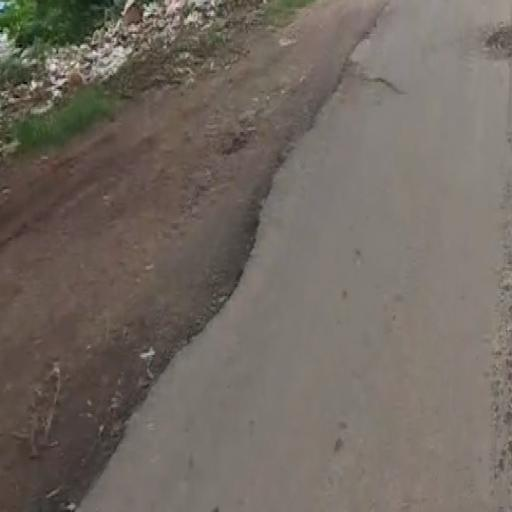edge_damage: (55, 6, 418, 499)
